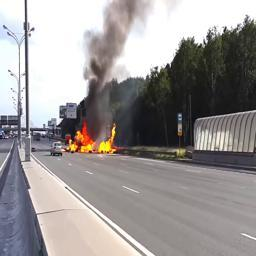fire: (66, 122, 116, 153)
